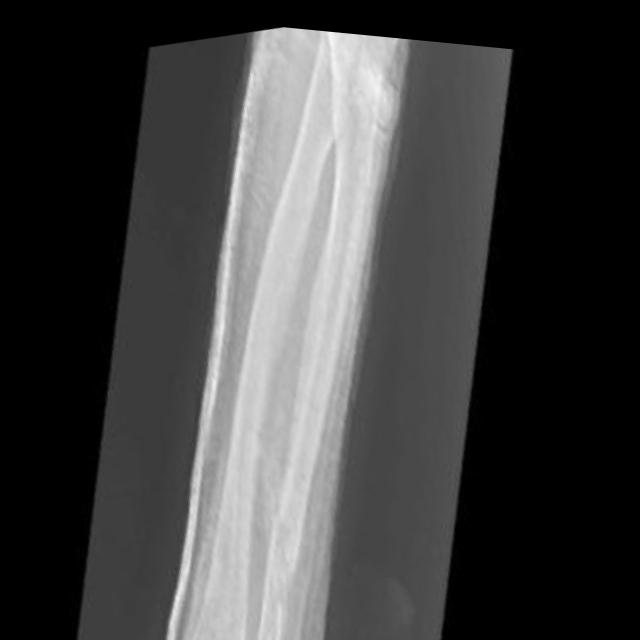fracture: (259, 492, 335, 616)
